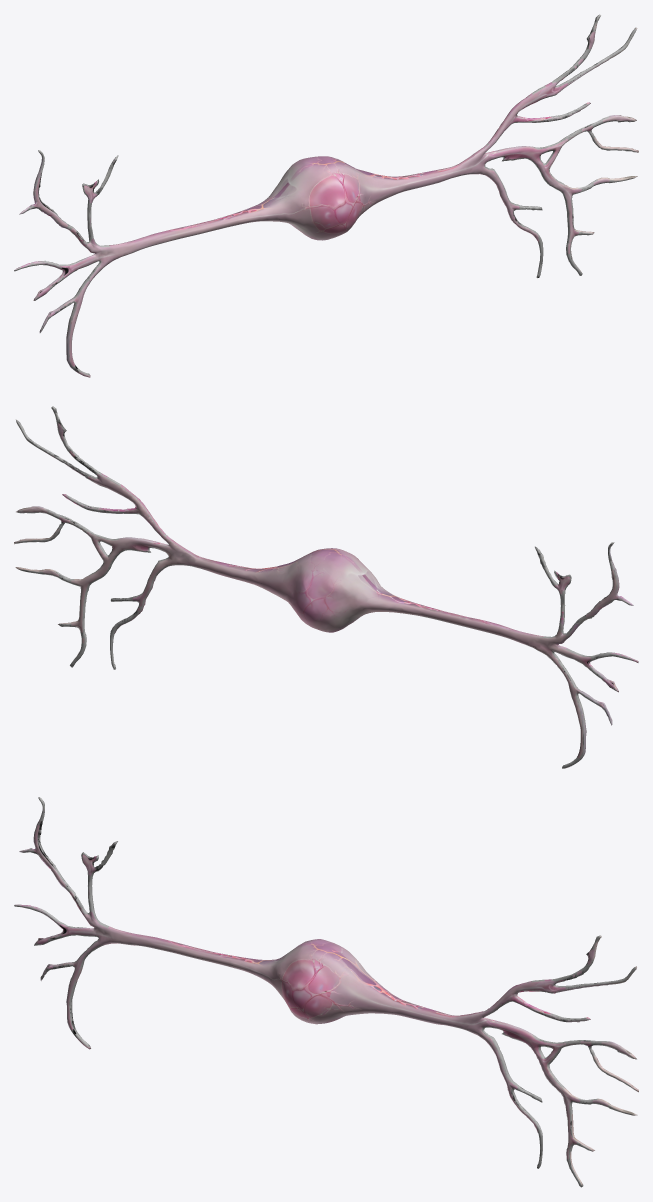
Rendered from neurona1.glb.
3 views of the same model, one above another, from view 1: azimuth 30°, elevation 25°; view 2: azimuth 150°, elevation 25°; view 3: azimuth 330°, elevation 25° (orthographic).
Bounding box in the file's own units: 1.99 × 0.7848 × 0.2448.
Materials: 1 (1 with a texture image).
